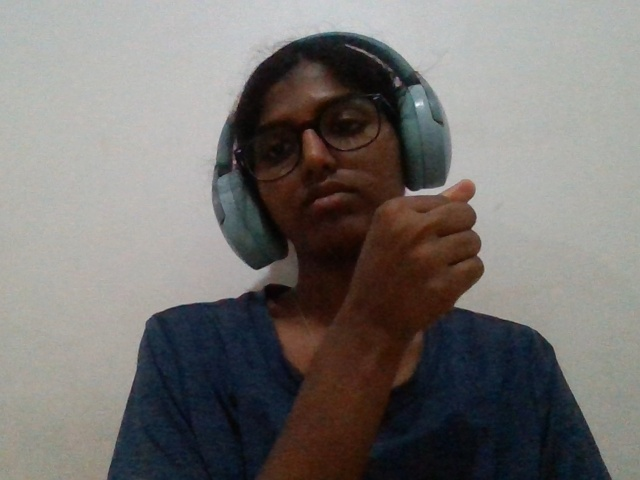G: (323, 160, 514, 379)
